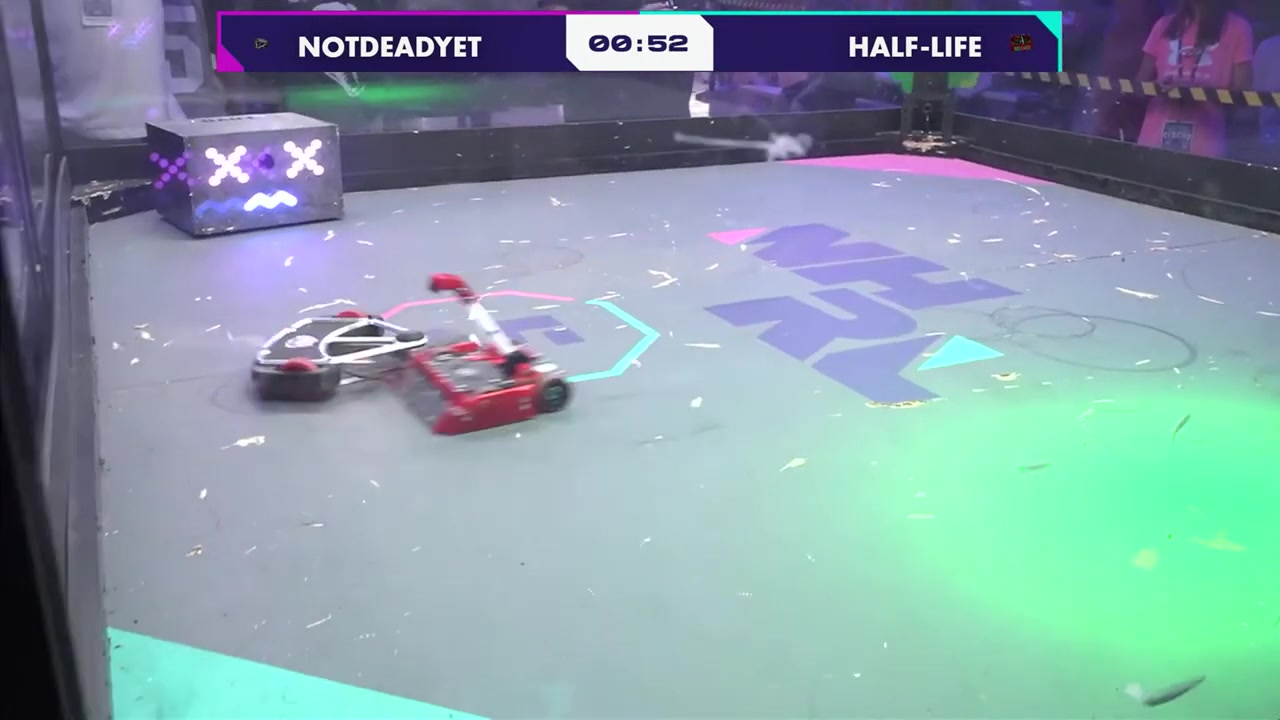combatbot: (391, 271, 573, 438), (248, 304, 426, 403)
housebot: (146, 100, 347, 240)
